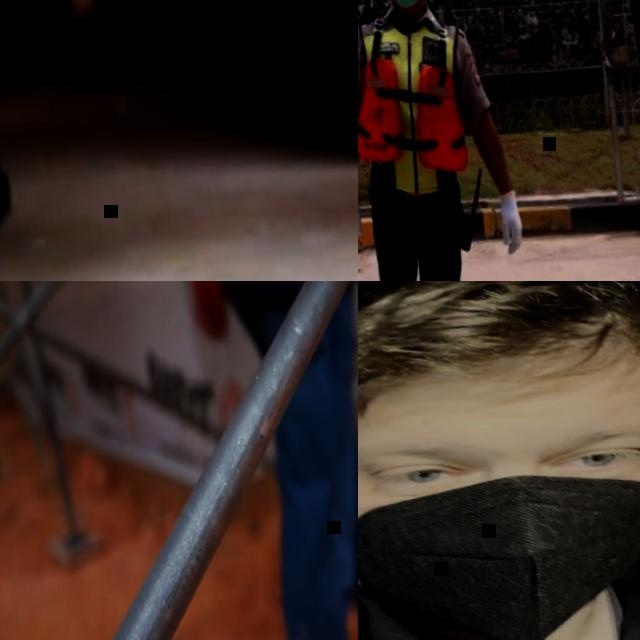Mask: (358, 420, 640, 640)
NO-Hardhat: (358, 281, 640, 442)
NO-Safety Vest: (358, 514, 640, 640)
Person: (358, 281, 640, 640), (154, 281, 358, 640), (0, 0, 257, 281), (358, 0, 559, 281)
Safety Vest: (358, 4, 481, 205)
